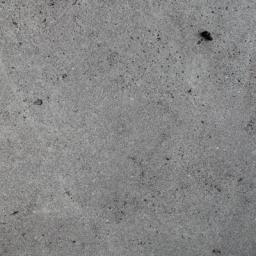FOD: (200, 27, 219, 45)
